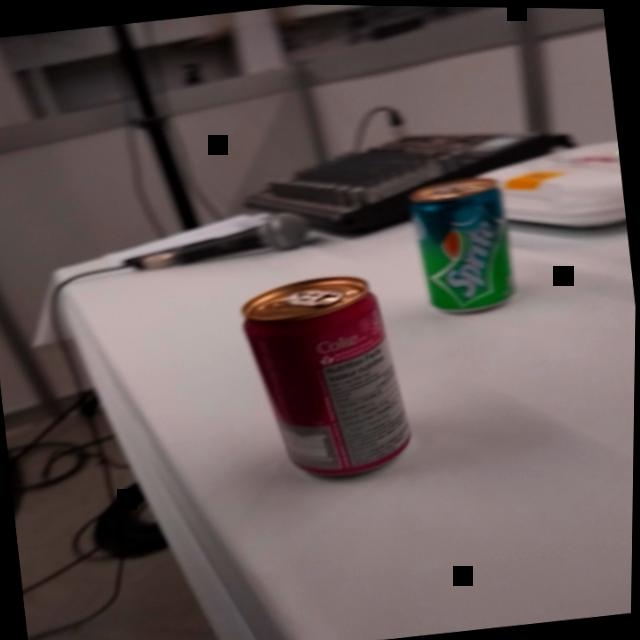coke: (229, 259, 426, 495)
sprite: (400, 167, 527, 324)
